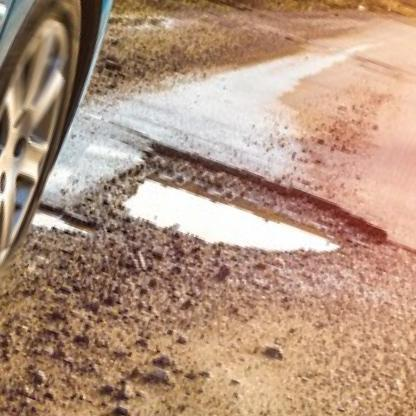pothole: (87, 121, 392, 314)
